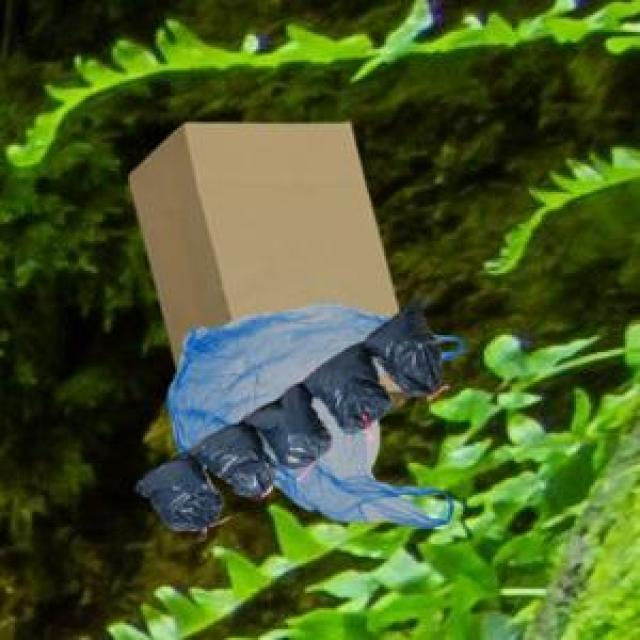miscellaneous trash: (132, 294, 437, 527)
paper: (126, 117, 405, 401)
